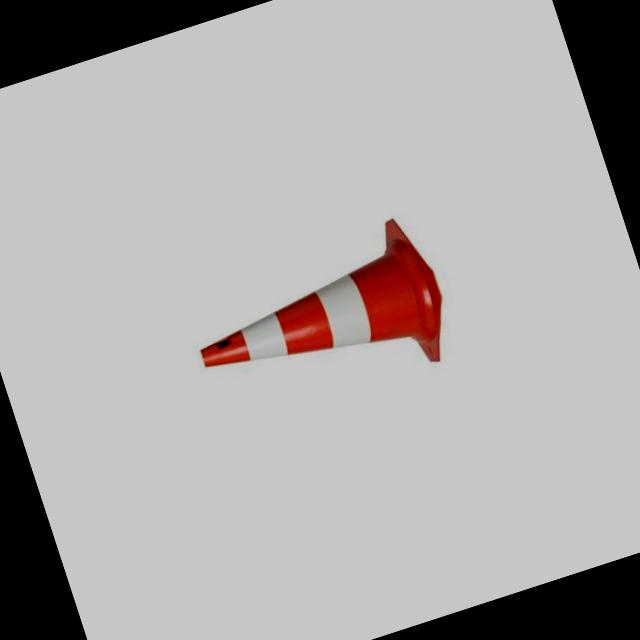cone: (175, 215, 456, 430)
